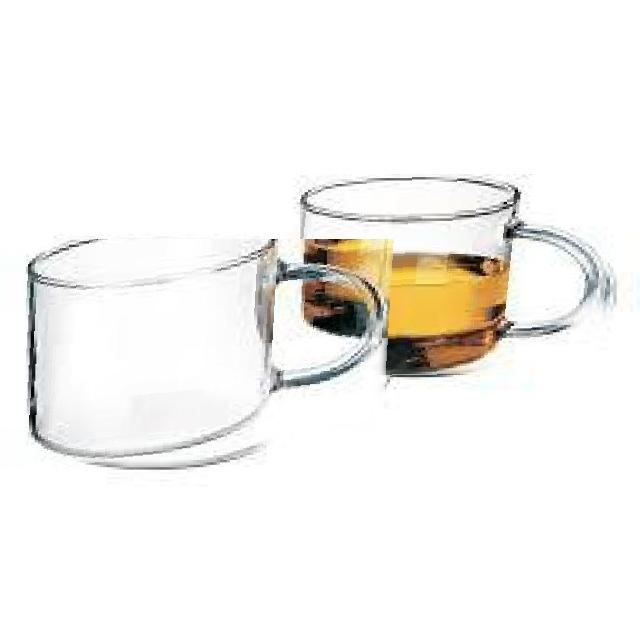Glass: (26, 239, 396, 472), (300, 174, 618, 378)
